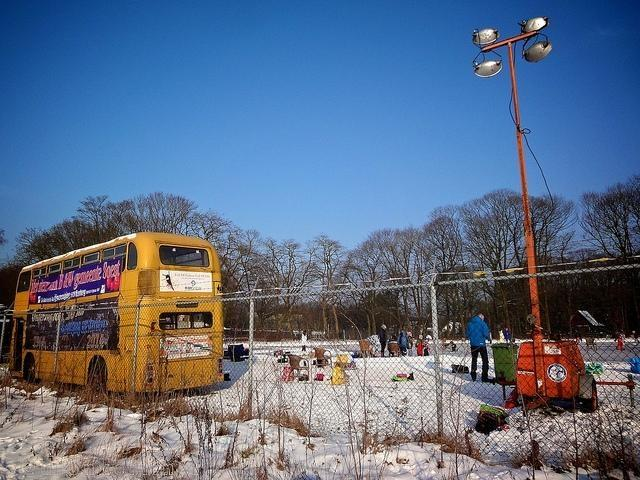bus: (9, 228, 226, 400)
